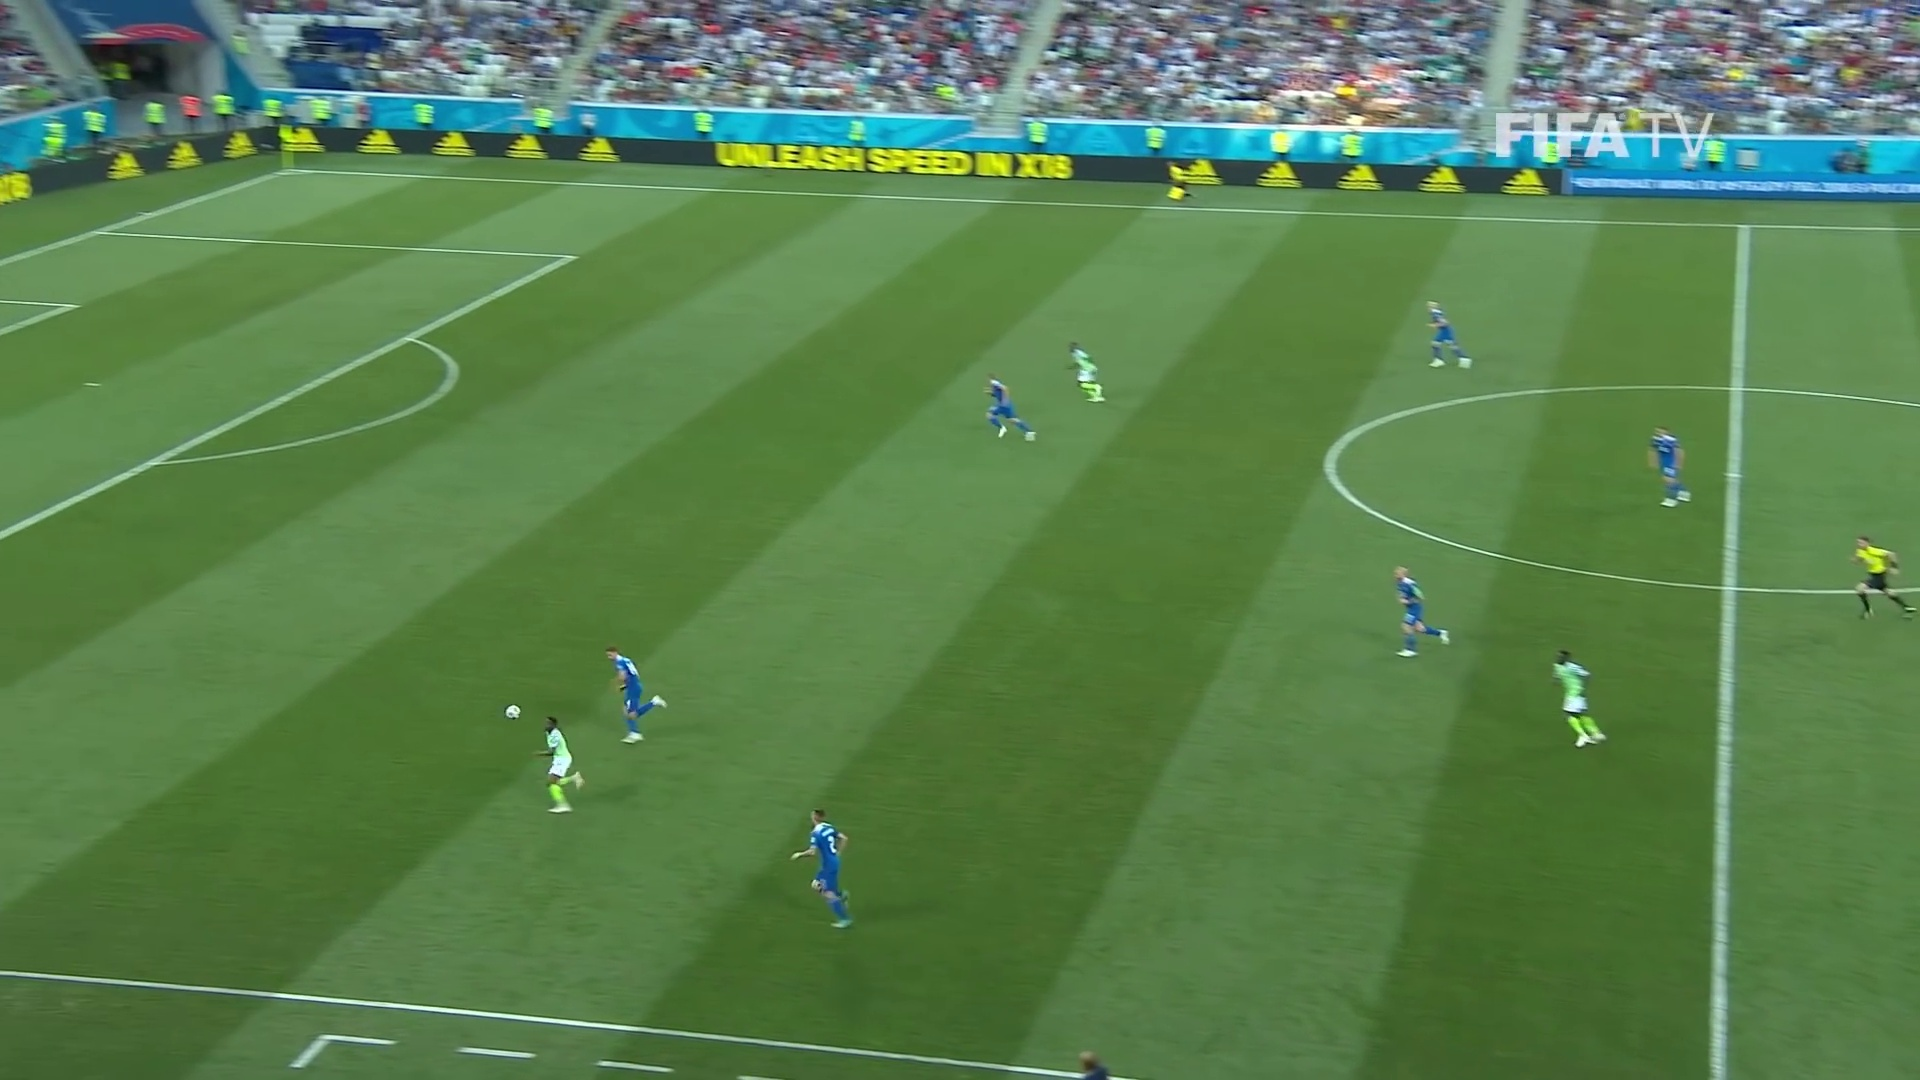ball: (505, 706, 520, 719)
person: (788, 809, 856, 929), (1848, 530, 1914, 623), (1393, 564, 1449, 655), (608, 647, 662, 742), (1550, 651, 1602, 743), (538, 717, 584, 812), (980, 373, 1036, 443), (1647, 423, 1689, 504), (1425, 302, 1472, 367), (1063, 340, 1106, 402)
